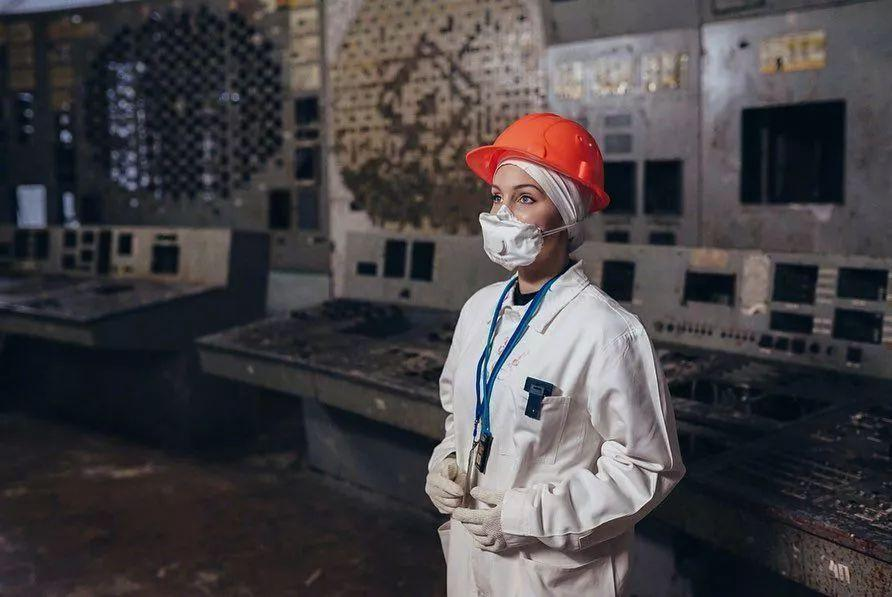helmet: (463, 110, 611, 212)
